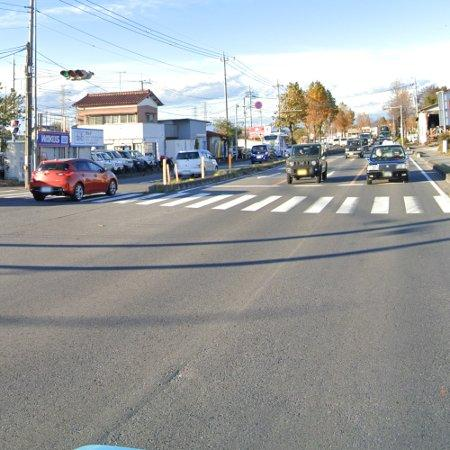crosswalks: (88, 194, 450, 216)
